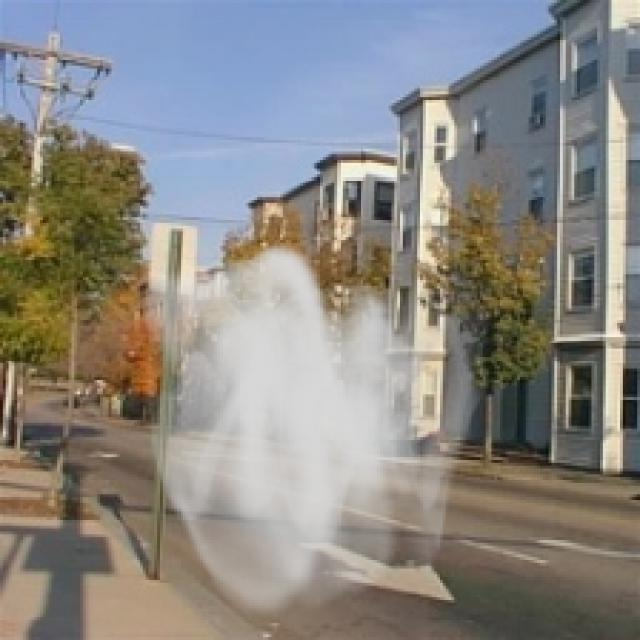Smoke: (134, 240, 489, 629)
